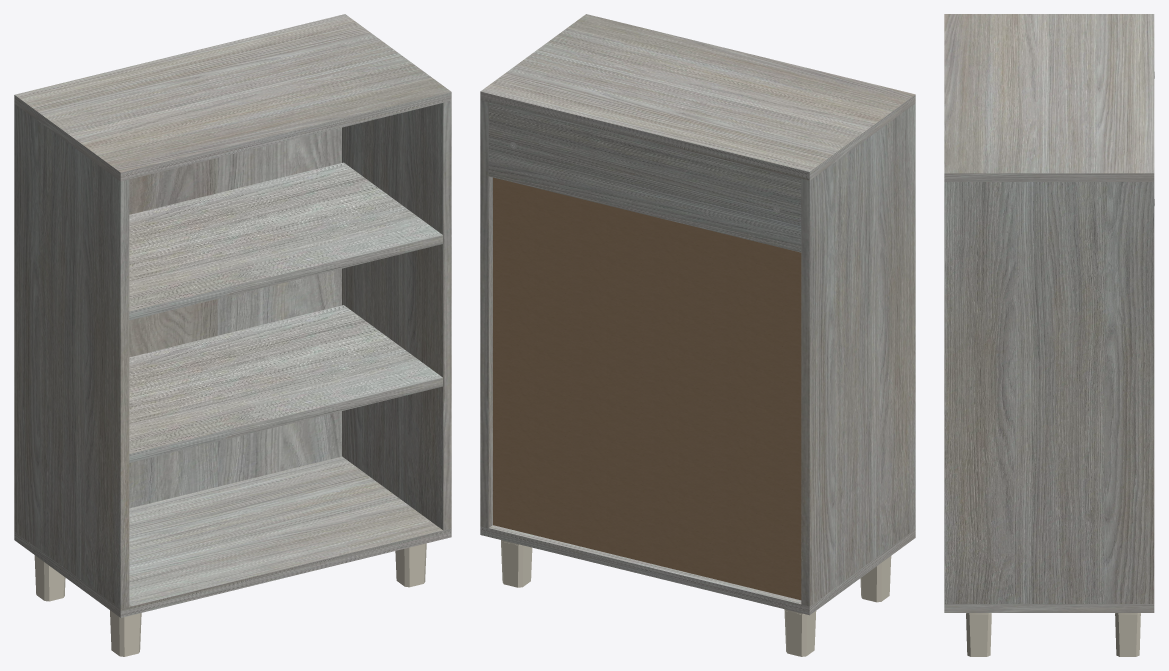
The picture shows the model from 3 angles, left to right: view 1: azimuth 30°, elevation 25°; view 2: azimuth 150°, elevation 25°; view 3: azimuth 270°, elevation 25°; orthographic projection.
Visible parts, largest first — view 1: Cube, Cube.006, Cube.005, Cube.007, Cube.008, group_0.365, Cube.003; view 2: group_0.365, Cube, Cube.006, Cube.005, Cube.003; view 3: Cube, Cube.006, Cube.003, Cube.005.
Boxes of the visible parts, x1=… form: Cube: x1=14, y1=101, x2=451, y2=608; Cube.006: x1=14, y1=14, x2=451, y2=181; Cube.005: x1=14, y1=456, x2=451, y2=617; Cube.007: x1=129, y1=162, x2=442, y2=320; Cube.008: x1=129, y1=305, x2=442, y2=462; group_0.365: x1=129, y1=127, x2=341, y2=508; Cube.003: x1=34, y1=543, x2=426, y2=656; group_0.365: x1=493, y1=177, x2=801, y2=600; Cube: x1=480, y1=100, x2=915, y2=606; Cube.006: x1=480, y1=14, x2=915, y2=180; Cube.005: x1=480, y1=525, x2=915, y2=615; Cube.003: x1=501, y1=540, x2=891, y2=656; Cube: x1=944, y1=182, x2=1154, y2=603; Cube.006: x1=944, y1=14, x2=1154, y2=181; Cube.003: x1=966, y1=613, x2=1140, y2=656; Cube.005: x1=944, y1=604, x2=1154, y2=612.
Bounding box in the file's own units: 0.7 × 1 × 0.3904.
8 materials, 3 textured.
